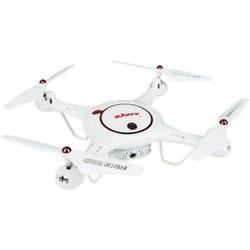drone: (1, 59, 250, 191)
